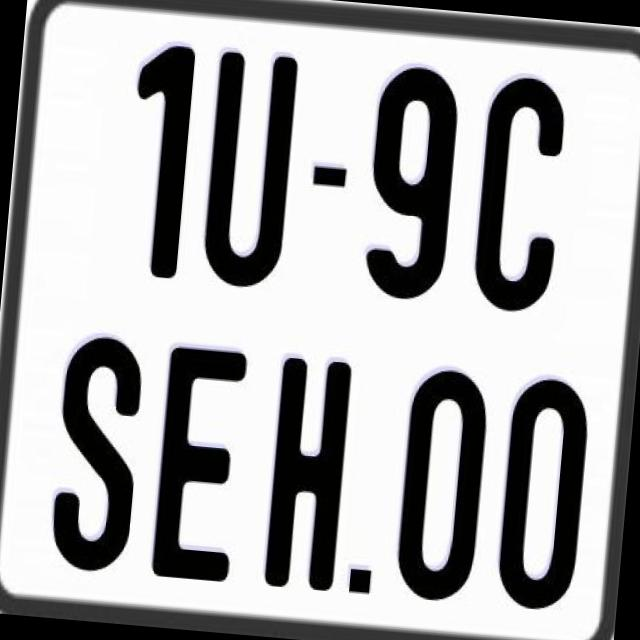0: (390, 366, 494, 606), (490, 376, 590, 622)
1: (119, 38, 200, 277)
9: (358, 59, 462, 298)
C: (468, 70, 568, 312)
E: (149, 342, 252, 584)
H: (260, 352, 356, 588)
S: (44, 328, 144, 572)
U: (196, 46, 299, 284)
